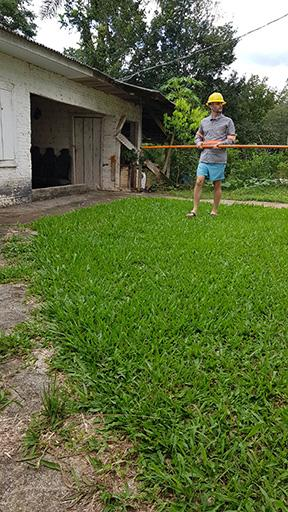Vara_Manobra: (139, 144, 288, 151)
